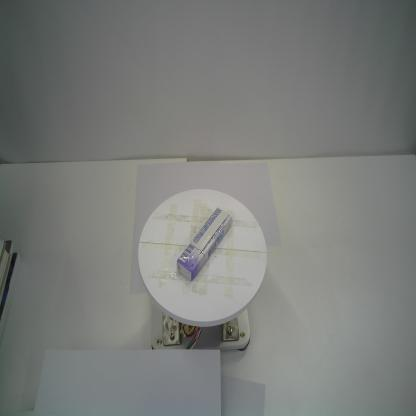Candy: (175, 206, 233, 282)
